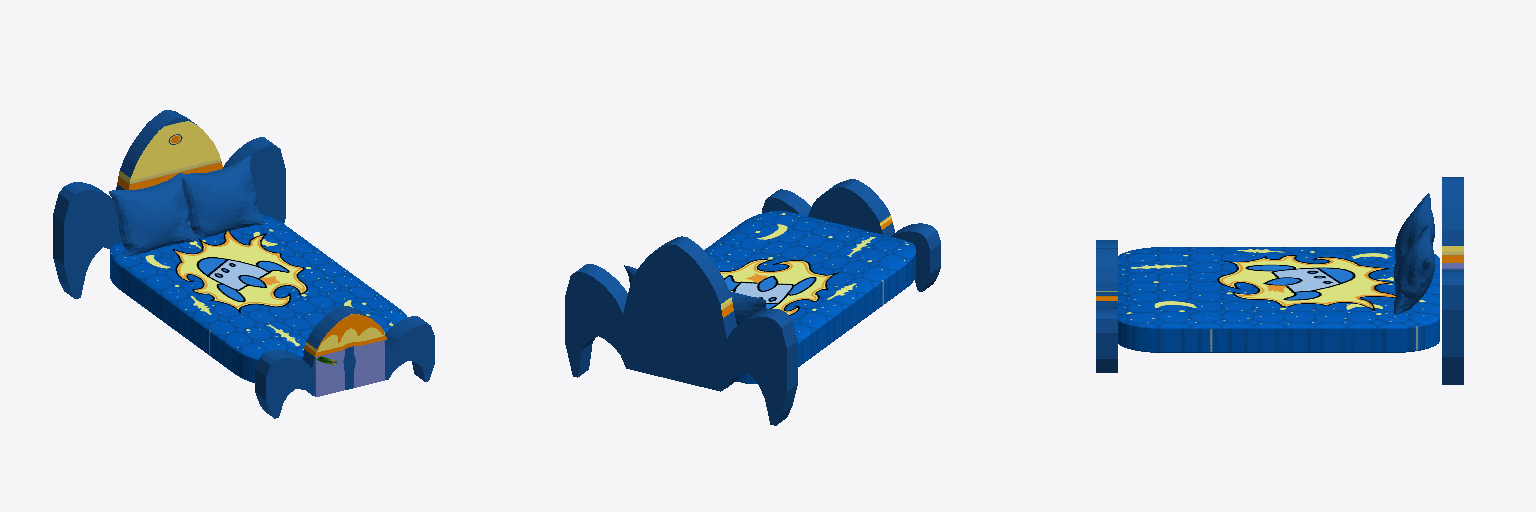
3 renders of one model, left to right at view 1: azimuth 30°, elevation 25°; view 2: azimuth 150°, elevation 25°; view 3: azimuth 270°, elevation 25°, orthographic.
Visible parts, largest first — view 1: Group_001, pCube2, pCube1, uploads_files_749686_Pillows_5_22_17_03_Mesh, uploads_files_749686_Pillows_5_22_17_03_Mesh1; view 2: pCube2, Group_001, pCube1, uploads_files_749686_Pillows_5_22_17_03_Mesh; view 3: Group_001, pCube2, pCube1, uploads_files_749686_Pillows_5_22_17_03_Mesh1, uploads_files_749686_Pillows_5_22_17_03_Mesh.
Boxes of the visible parts, box(x1,y1,x2,y2) form: Group_001: box(110, 214, 407, 382); pCube2: box(53, 110, 285, 298); pCube1: box(255, 306, 434, 418); uploads_files_749686_Pillows_5_22_17_03_Mesh: box(109, 173, 196, 256); uploads_files_749686_Pillows_5_22_17_03_Mesh1: box(182, 156, 264, 238); pCube2: box(565, 236, 797, 425); Group_001: box(704, 211, 915, 383); pCube1: box(762, 179, 940, 291); uploads_files_749686_Pillows_5_22_17_03_Mesh: box(729, 291, 766, 325); Group_001: box(1115, 247, 1439, 352); pCube2: box(1442, 177, 1463, 384); pCube1: box(1096, 240, 1117, 372); uploads_files_749686_Pillows_5_22_17_03_Mesh1: box(1394, 229, 1434, 314); uploads_files_749686_Pillows_5_22_17_03_Mesh: box(1394, 193, 1434, 280).
Bounding box in the file's own units: 3.28 × 2.21 × 4.71.
4 materials, 4 textured.